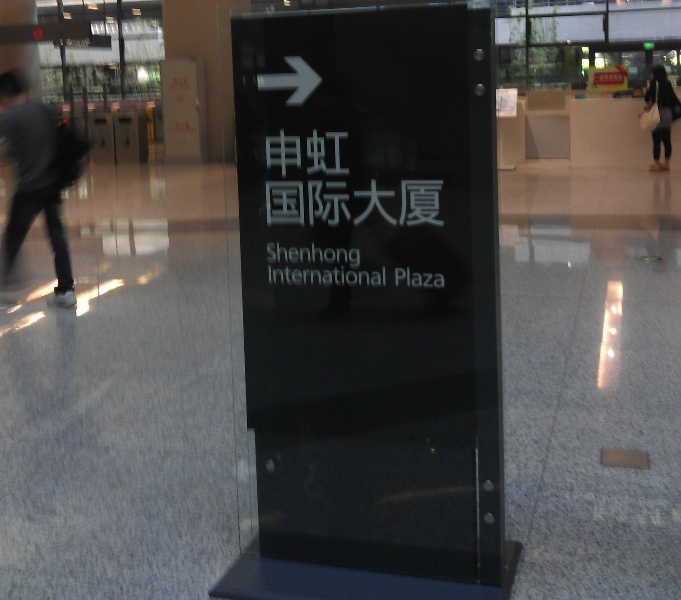text: (273, 179, 288, 229), (289, 179, 304, 229), (305, 179, 320, 229), (321, 179, 336, 229), (337, 179, 352, 229), (353, 179, 368, 229), (369, 179, 384, 229), (385, 179, 400, 229), (401, 179, 416, 229), (417, 179, 432, 229), (273, 130, 288, 179), (289, 130, 304, 179), (305, 130, 320, 179), (321, 130, 336, 179), (337, 130, 351, 179), (433, 179, 445, 229), (273, 241, 288, 268), (289, 241, 304, 268), (305, 241, 320, 268), (321, 241, 336, 268), (337, 241, 352, 268), (401, 266, 416, 290), (417, 266, 432, 290), (265, 179, 272, 229), (273, 266, 288, 289), (289, 266, 304, 289), (305, 266, 320, 289), (321, 266, 336, 289), (337, 266, 352, 289), (353, 266, 368, 289), (369, 266, 384, 289), (265, 130, 272, 179), (433, 266, 447, 290), (353, 241, 362, 268), (266, 241, 272, 268), (266, 266, 272, 289), (395, 266, 400, 290), (177, 121, 190, 130), (609, 74, 623, 80), (595, 74, 608, 80), (177, 78, 188, 85), (177, 96, 185, 102), (385, 266, 386, 289), (174, 78, 176, 85)
